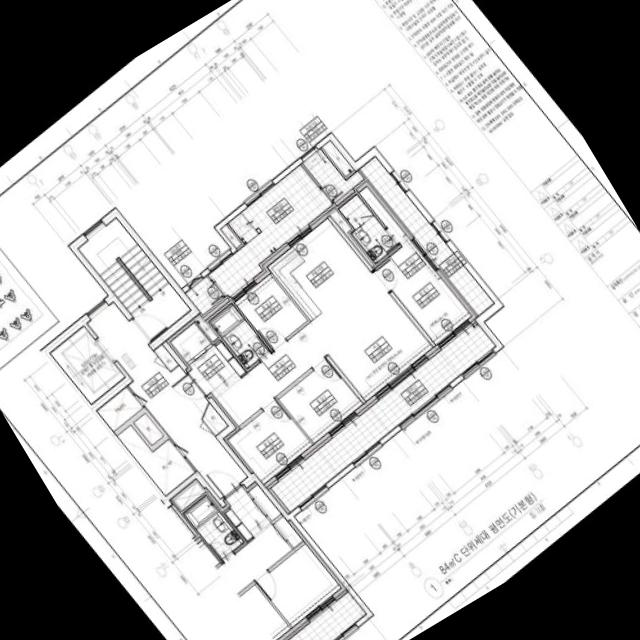background: (0, 0, 640, 640)
space_balconi: (271, 322, 496, 511), (360, 157, 494, 315), (209, 165, 332, 296)
space_bedroom: (360, 186, 472, 344), (228, 400, 312, 484), (279, 360, 363, 443), (235, 274, 308, 349)
space_elevator: (51, 326, 125, 404)
space_elevator_hall: (88, 302, 247, 498)
space_front: (189, 340, 248, 398)
space_kitchen: (268, 218, 371, 320)
space_living_room: (216, 272, 433, 426)
space_other: (118, 425, 195, 495), (331, 210, 374, 266), (98, 388, 143, 431), (171, 323, 211, 362), (186, 276, 224, 314), (323, 141, 354, 176), (134, 413, 163, 445), (203, 403, 228, 435), (155, 344, 179, 371), (196, 318, 218, 341), (221, 225, 242, 248)
space_outdoor_room: (303, 149, 364, 203)
space_staircase: (79, 218, 191, 341)
space_toilet: (339, 195, 398, 263), (210, 304, 269, 368)
